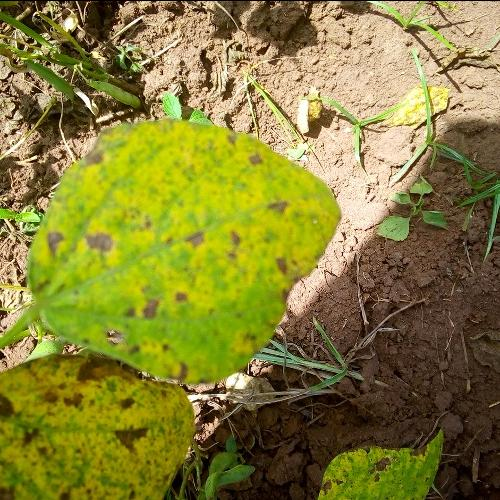hawar: (2, 132, 352, 494)
